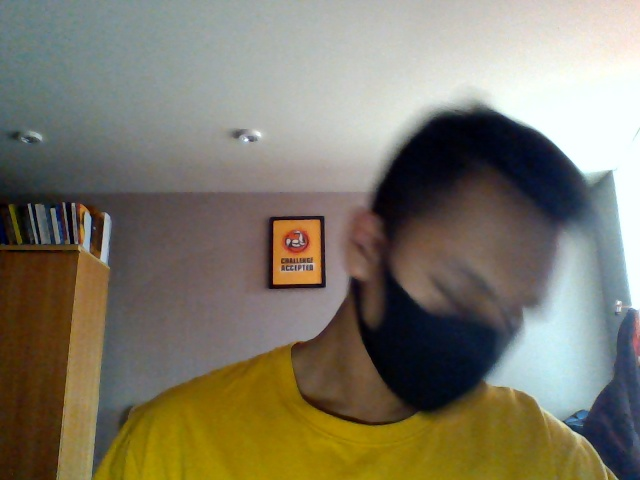mask: (354, 301, 495, 413)
